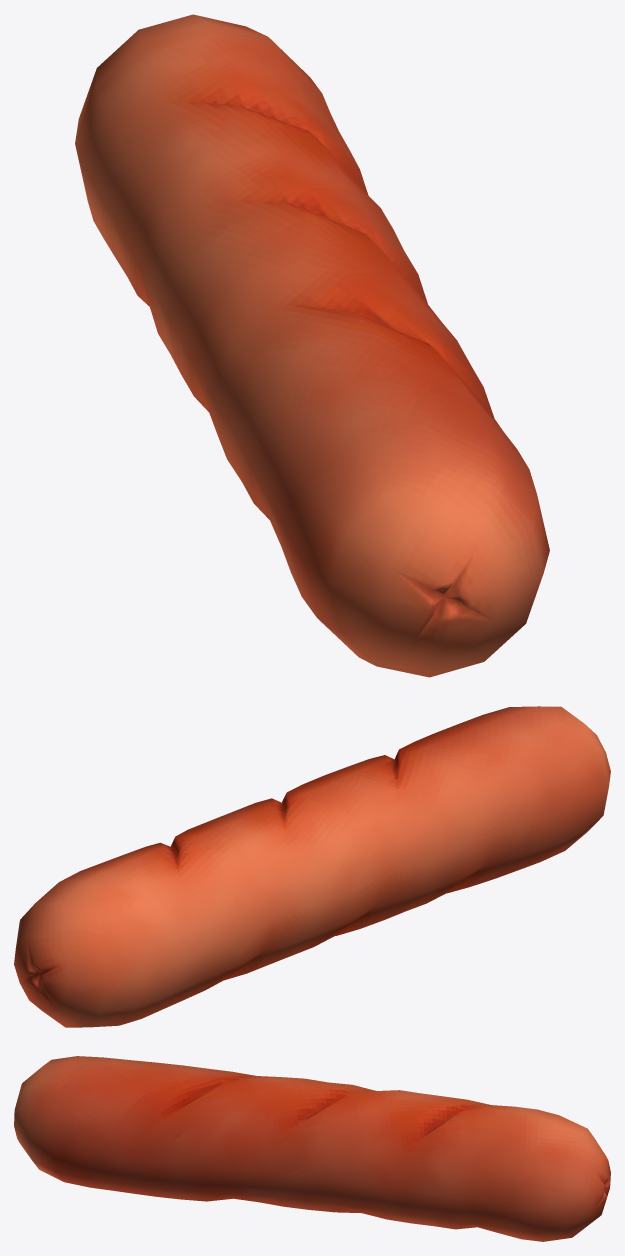
The model's file is ref_bbqhotdog.fbx.
3 views of the same model, one above another, from view 1: azimuth 30°, elevation 25°; view 2: azimuth 150°, elevation 25°; view 3: azimuth 270°, elevation 25° (orthographic). The views are drawn at different scales.
Visible parts, largest first — view 1: ref_bbqhotdog; view 2: ref_bbqhotdog; view 3: ref_bbqhotdog.
Boxes of the visible parts, box(x1,y1,x2,y2) form: ref_bbqhotdog: box(75, 14, 549, 677); ref_bbqhotdog: box(14, 706, 610, 1027); ref_bbqhotdog: box(14, 1056, 610, 1241).
Bounding box in the file's own units: 45.16 × 22.55 × 100.
1 material, 1 textured.
